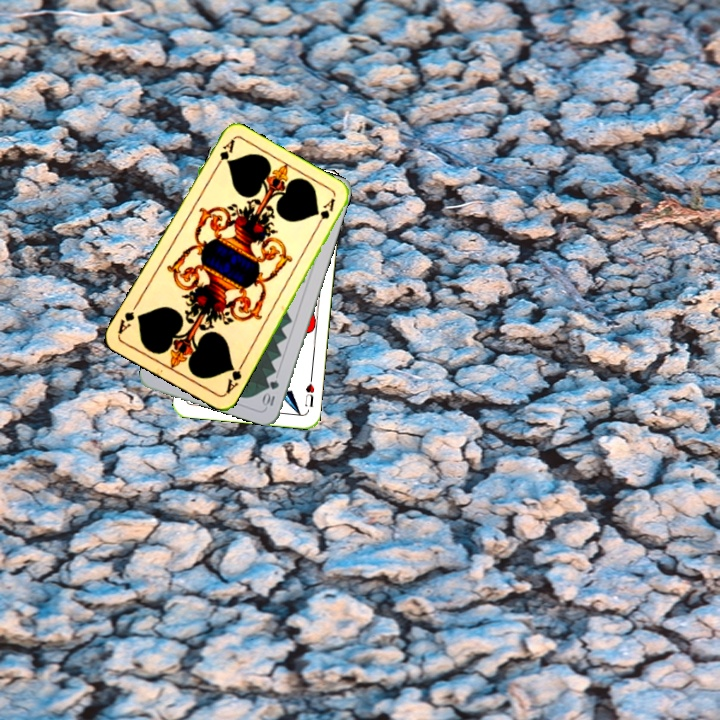G10: (259, 376, 282, 410)
GA: (210, 136, 237, 173), (222, 359, 246, 396)
HU: (301, 372, 317, 409)
